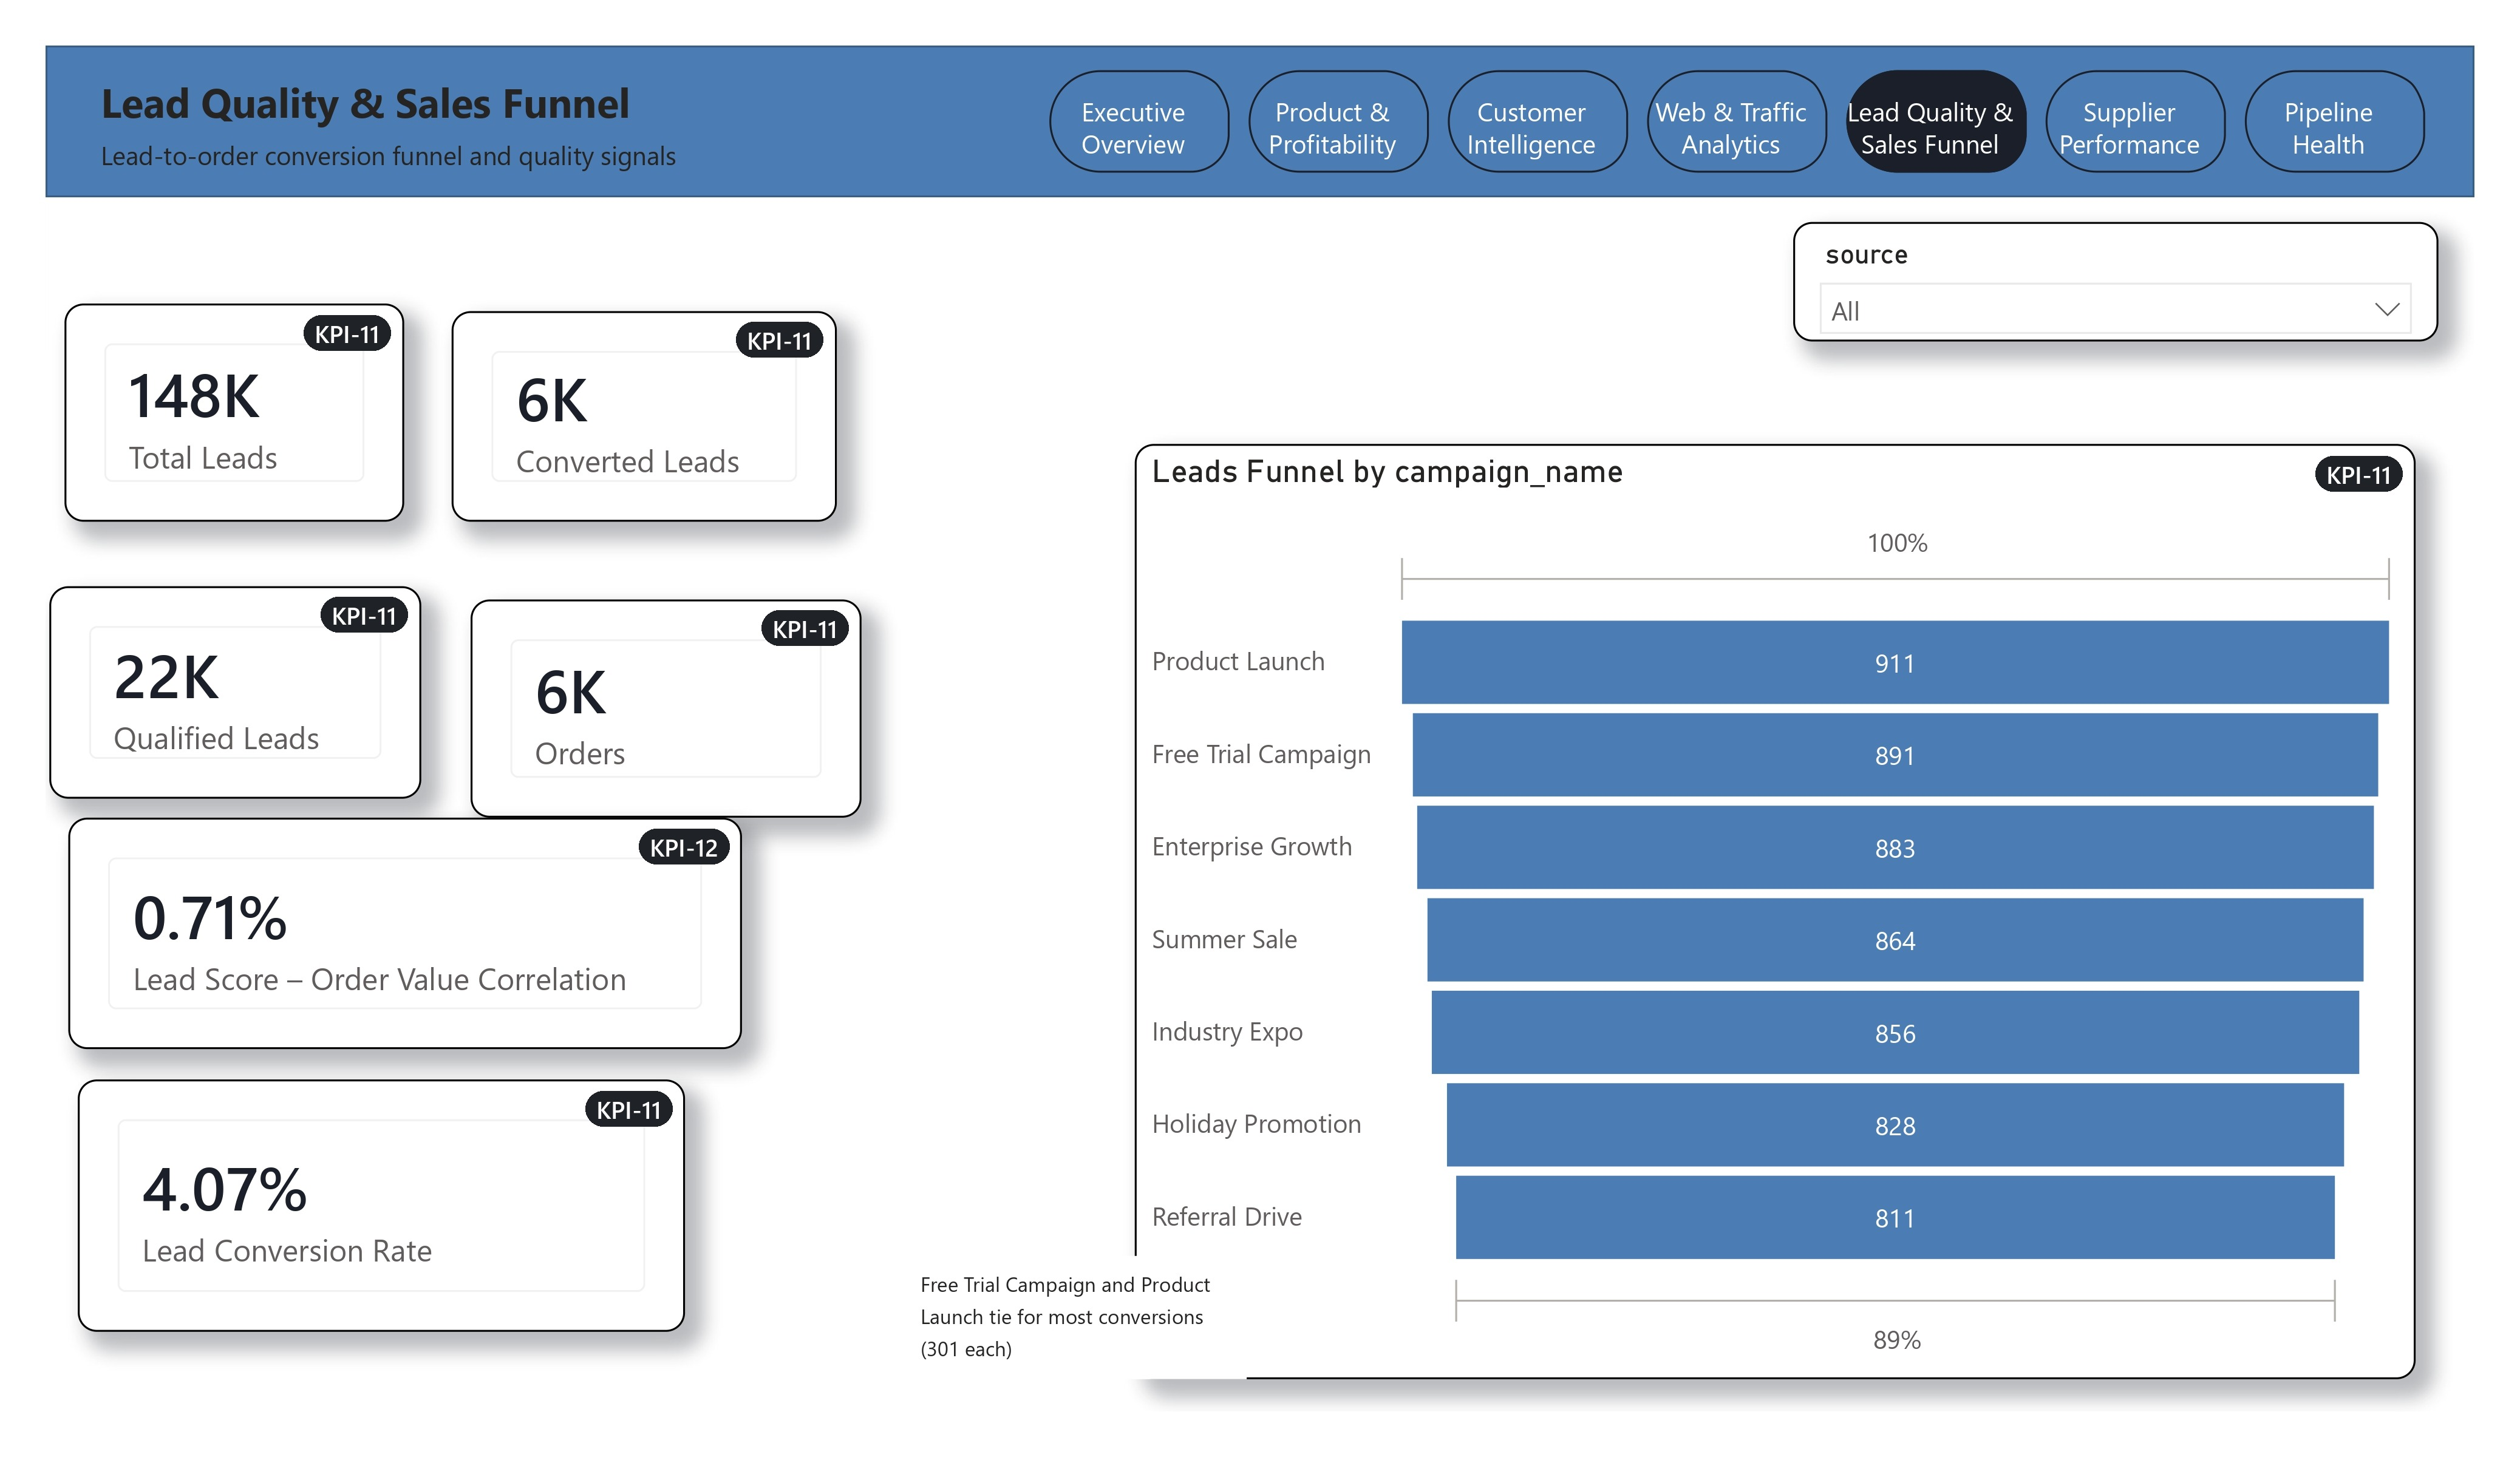

What the dashboard file says about the page in this screenshot:
{"tool":"powerbi","page":{"name":"Lead Quality & Sales Funnel","canvas":[1280,720],"ordinal":4},"visuals":[{"type":"shape","box":[0,0,1280,80],"z":0},{"type":"cardVisual","title":"Total Leads","fields":{"Data":["Sum(marts vw_lead_conversion_funnel.total_leads)"]},"box":[9.8,136.3,179.1,115.1],"z":1000},{"type":"cardVisual","fields":{"Data":["Sum(marts vw_lead_conversion_funnel.qualified_leads)"]},"box":[2.3,284.9,195.3,111.6],"z":2000},{"type":"cardVisual","fields":{"Data":["Sum(marts vw_lead_conversion_funnel.converted_leads)"]},"box":[214.4,139.8,202.3,111.6],"z":3000},{"type":"cardVisual","fields":{"Data":["Sum(marts vw_lead_conversion_funnel.orders)"]},"box":[224.4,291.9,205.8,115.1],"z":4000},{"type":"slicer","fields":{"Values":["marts vw_lead_conversion_funnel.source"]},"box":[920.9,93,339.7,62.8],"z":5000},{"type":"cardVisual","fields":{"Data":["Sum(marts vw_lead_quality_vs_order_value.lead_score_order_value_correlation)"]},"box":[11.6,407,355.8,122.1],"z":6000},{"type":"funnel","fields":{"Category":["marts vw_lead_conversion_funnel.campaign_name"],"Y":["Sum(marts vw_lead_conversion_funnel.converted_leads)"]},"box":[574.4,210.5,674.4,493],"z":7000},{"type":"cardVisual","fields":{"Data":["Measure.Lead Conversion Rate"]},"box":[17.4,545.4,319.7,132.6],"z":8000},{"type":"textbox","box":[24.4,10.5,322.1,43],"z":9000},{"type":"textbox","box":[24.4,44.2,550,36],"z":10000},{"type":"pageNavigator","box":[529.1,12.8,731.4,54.7],"z":11000},{"type":"textbox","box":[455.8,638.4,176.7,65.1],"z":20000}]}

Visuals, with their boxes on the page's 1280x720 design canvas (x1, y1, x2, y2). These are canvas units, not pixel positions in the 2520x1457 screenshot, which may show the page scaled, cropped or inside an application window:
shape: 0:0:1280:80
"Total Leads" cardVisual: 10:136:189:251
cardVisual - Sum(marts vw_lead_conversion_funnel.qualified_leads): 2:285:198:396
cardVisual - Sum(marts vw_lead_conversion_funnel.converted_leads): 214:140:417:251
cardVisual - Sum(marts vw_lead_conversion_funnel.orders): 224:292:430:407
slicer - marts vw_lead_conversion_funnel.source: 921:93:1261:156
cardVisual - Sum(marts vw_lead_quality_vs_order_value.lead_score_order_value_correlation): 12:407:367:529
funnel - marts vw_lead_conversion_funnel.campaign_name x Sum(marts vw_lead_conversion_funnel.converted_leads): 574:210:1249:704
cardVisual - Measure.Lead Conversion Rate: 17:545:337:678
textbox: 24:10:346:54
textbox: 24:44:574:80
pageNavigator: 529:13:1260:68
textbox: 456:638:632:704
